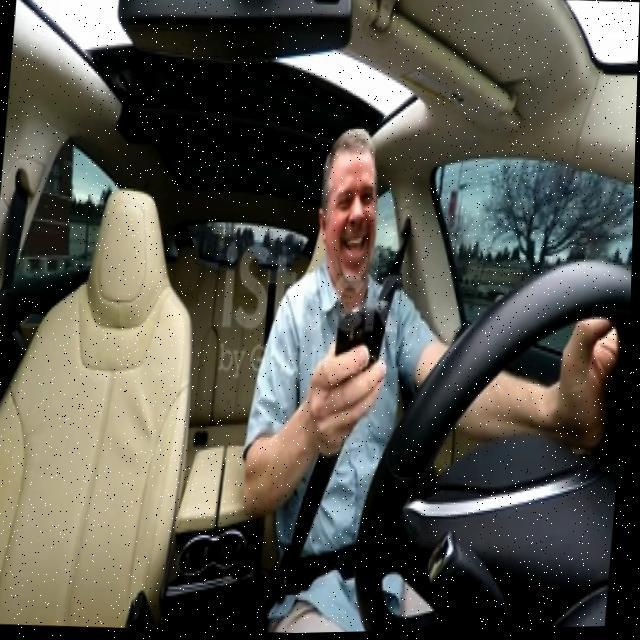PhoneCall: (334, 300, 392, 399)
